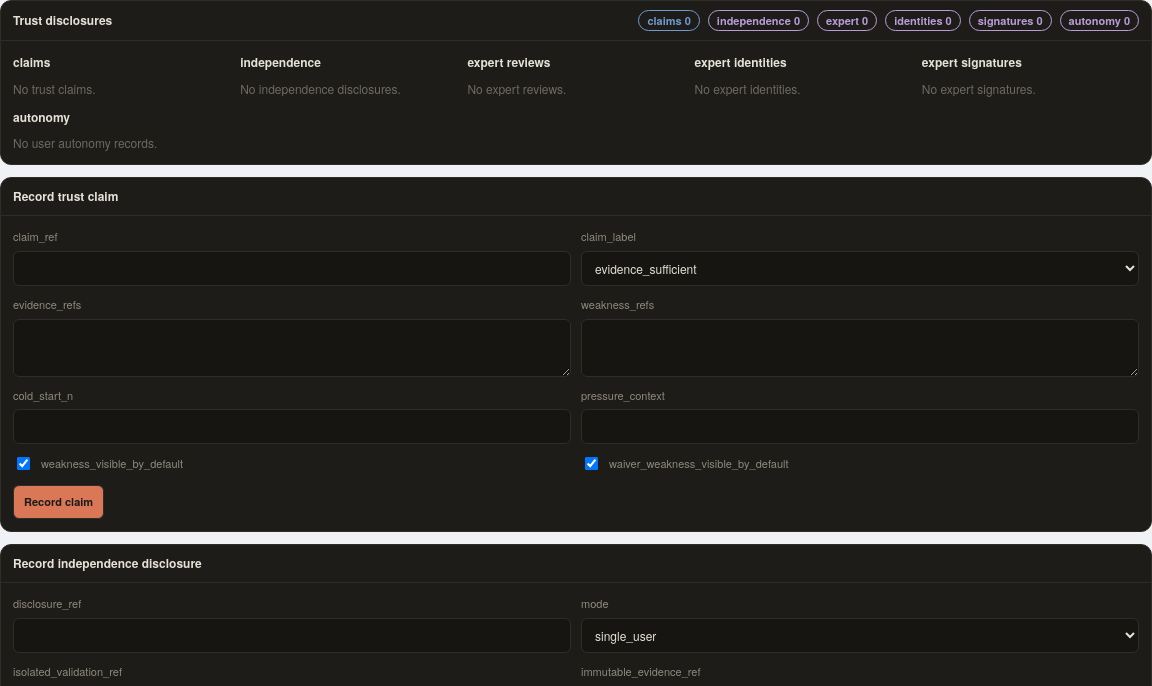
Test: TrustDisclosurePanel › blocks strong trust claim without evidence before making a backend request
Check: the text "claims 0" is shown, box [638,10,700,31]
Type "claim:bad" into the field with test id "trust-claim-claim_ref" at (292, 268), box [13,251,571,286]
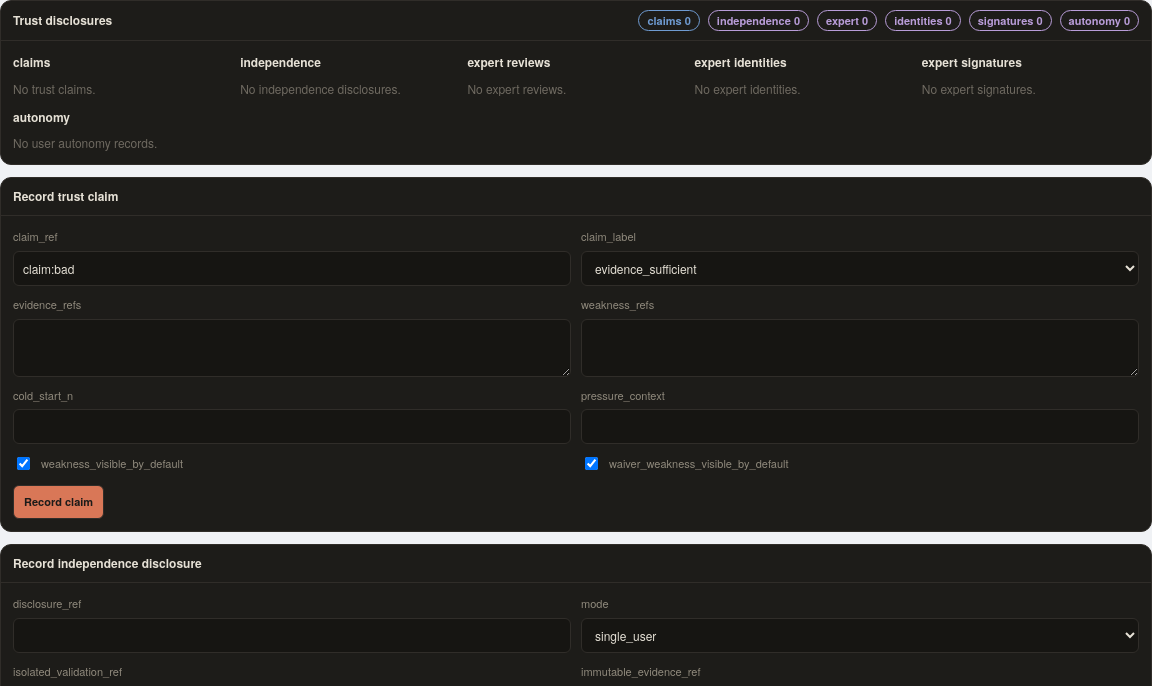
Click the button with test id "trust-record-claim" at (59, 502), box [13,486,104,519]
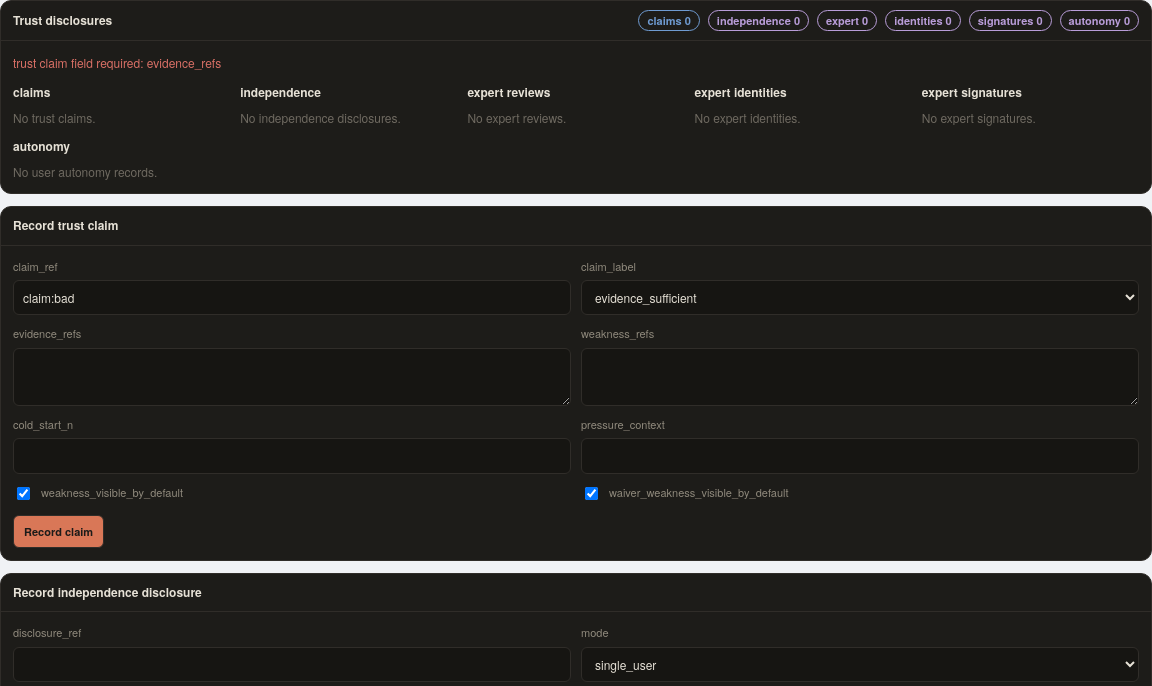
Check: the message with test id "trust-disclosure-error" shows "evidence_refs", box [13,54,221,71]
